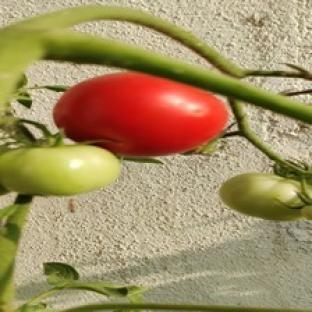Tomato: (53, 73, 228, 157), (0, 145, 119, 196), (219, 173, 309, 221)
